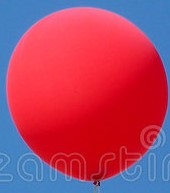Balloon: (6, 8, 168, 182)
